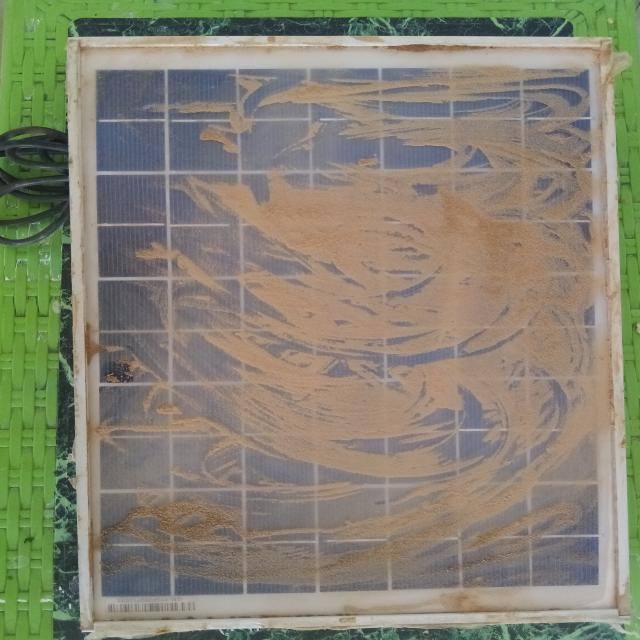faulty: (72, 38, 630, 628)
